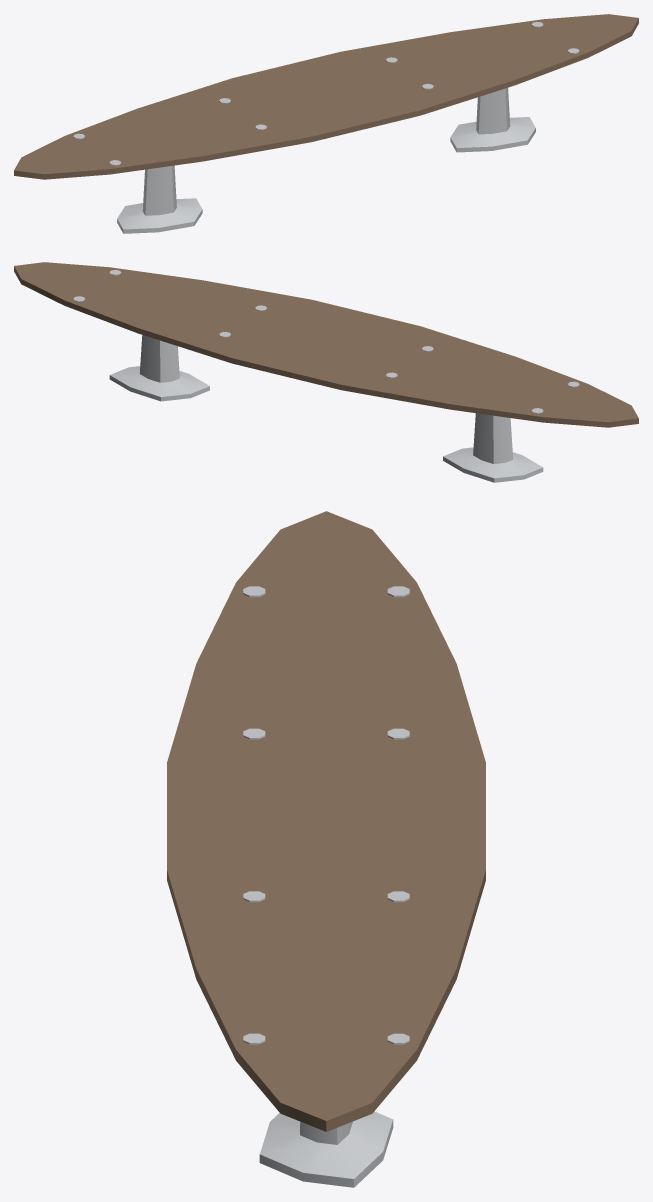
File: conf_table.glb
3 views of the same model, one above another, from view 1: azimuth 30°, elevation 25°; view 2: azimuth 150°, elevation 25°; view 3: azimuth 270°, elevation 25° (orthographic). The views are drawn at different scales.
Visible parts, largest first — view 1: conf_table, frame; view 2: conf_table, frame; view 3: conf_table, frame.
Part boxes in pixels (<box>): conf_table: <box>14,14,638,179</box>; frame: <box>73,22,579,233</box>; conf_table: <box>14,262,638,427</box>; frame: <box>73,270,579,482</box>; conf_table: <box>167,511,485,1131</box>; frame: <box>243,586,409,1187</box>.
Bounding box in the file's own units: 6 × 0.772 × 1.33.
